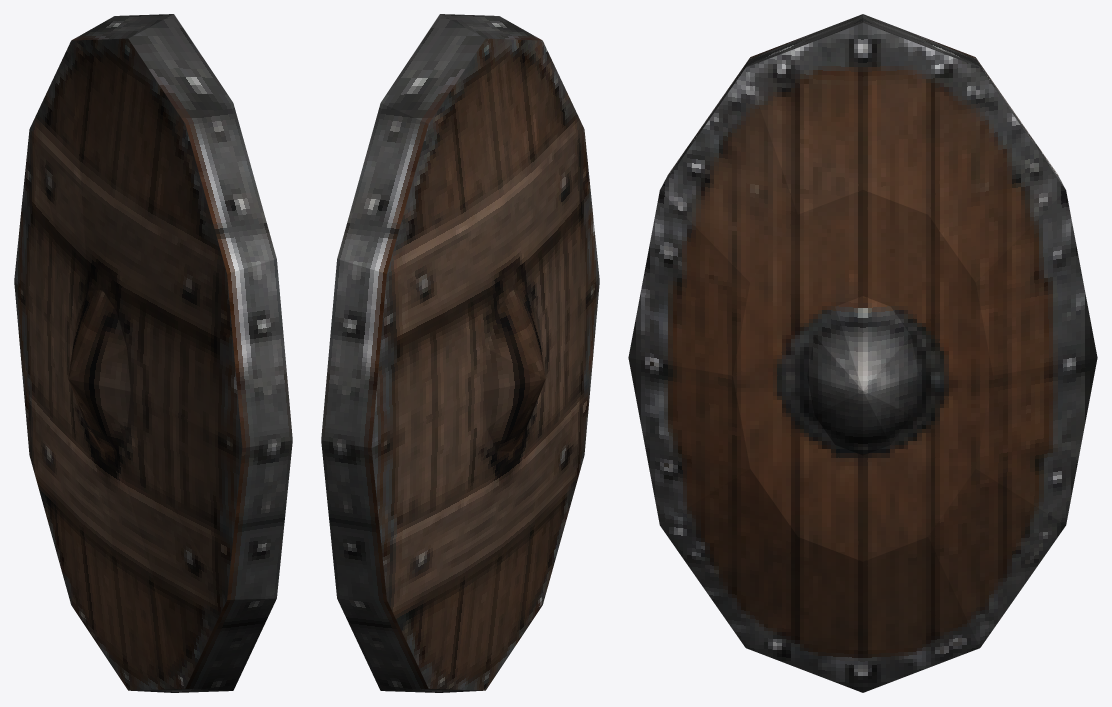
Rendered from lamina.glb.
3 renders of one model, left to right at view 1: azimuth 30°, elevation 25°; view 2: azimuth 150°, elevation 25°; view 3: azimuth 270°, elevation 25°, orthographic.
Visible parts, largest first — view 1: escudo.mano.lamina; view 2: escudo.mano.lamina; view 3: escudo.mano.lamina.
Boxes of the visible parts, left/top/right/bottom form: escudo.mano.lamina: left=14, top=14, right=292, bottom=692; escudo.mano.lamina: left=321, top=14, right=599, bottom=692; escudo.mano.lamina: left=628, top=14, right=1097, bottom=692.
Size of the model in its own units: 0.215 by 0.8 by 0.5075.
Materials: 1 (1 with a texture image).
